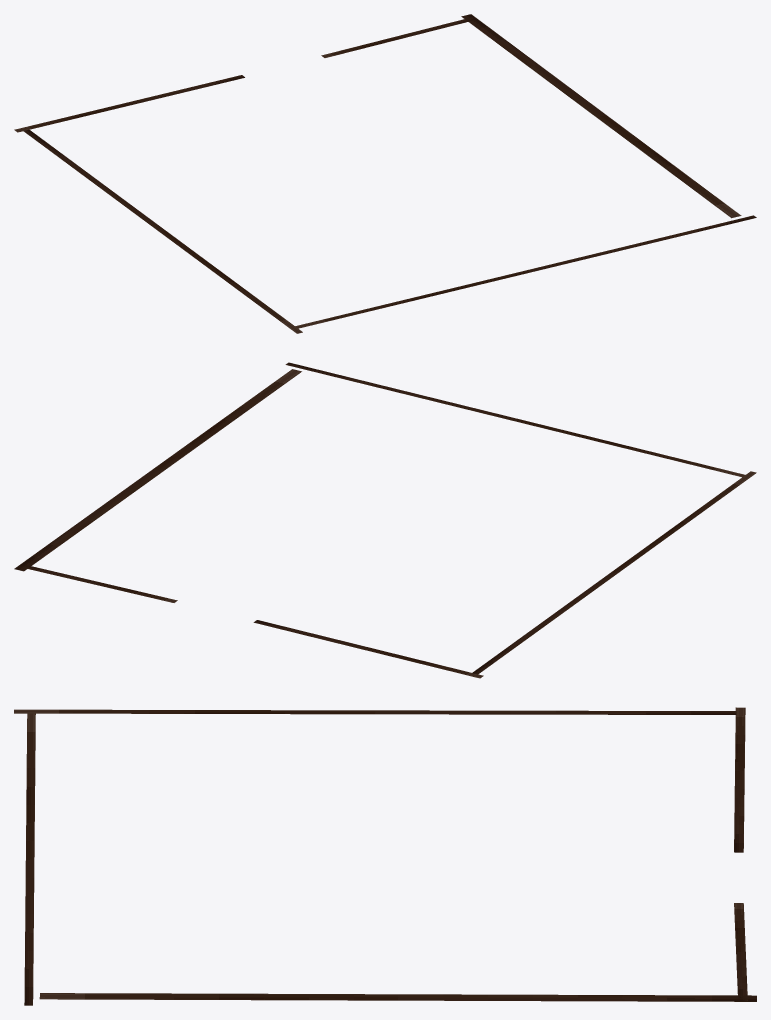
File: shanty_npc_house_combo_Fence_footprint.fbx
3 views of the same model, one above another, from view 1: azimuth 30°, elevation 25°; view 2: azimuth 150°, elevation 25°; view 3: azimuth 270°, elevation 25° (orthographic). The views are drawn at different scales.
Visible parts, largest first — view 1: footprint; view 2: footprint; view 3: footprint.
Part boxes in pixels (x1,y1,x2,y2): footprint: [14, 14, 756, 333]; footprint: [14, 362, 756, 678]; footprint: [14, 707, 756, 1005].
Size of the model in its own units: 3260 by 0.00056 by 3435.
Materials: 1 (1 with a texture image).
